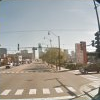crosswalk: (0, 86, 76, 95), (0, 70, 38, 73)
